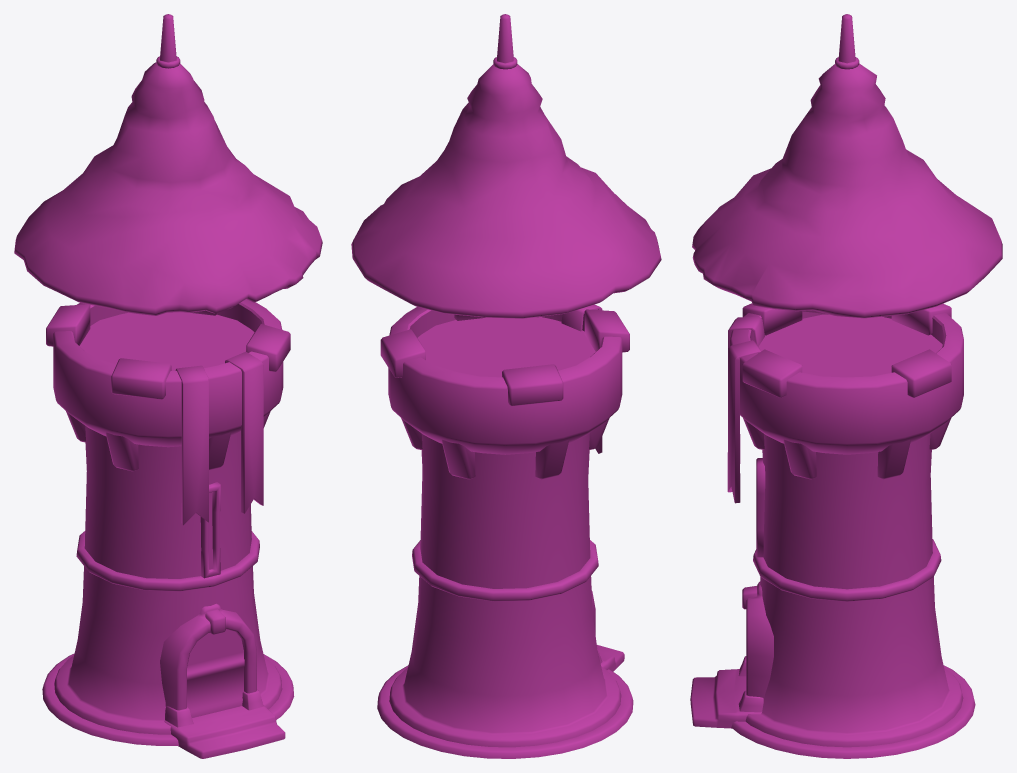
Rendered from SM_Tower_V2.fbx.
3 views of the same model, side by side, from view 1: azimuth 30°, elevation 25°; view 2: azimuth 150°, elevation 25°; view 3: azimuth 270°, elevation 25° (orthographic).
Visible parts, largest first — view 1: Cylinder016; view 2: Cylinder016; view 3: Cylinder016.
Boxes of the visible parts, bbox=[...] form: Cylinder016: bbox=[14, 14, 322, 758]; Cylinder016: bbox=[351, 14, 661, 758]; Cylinder016: bbox=[690, 14, 1002, 758].
Bounding box in the file's own units: 770 × 1884 × 772.
